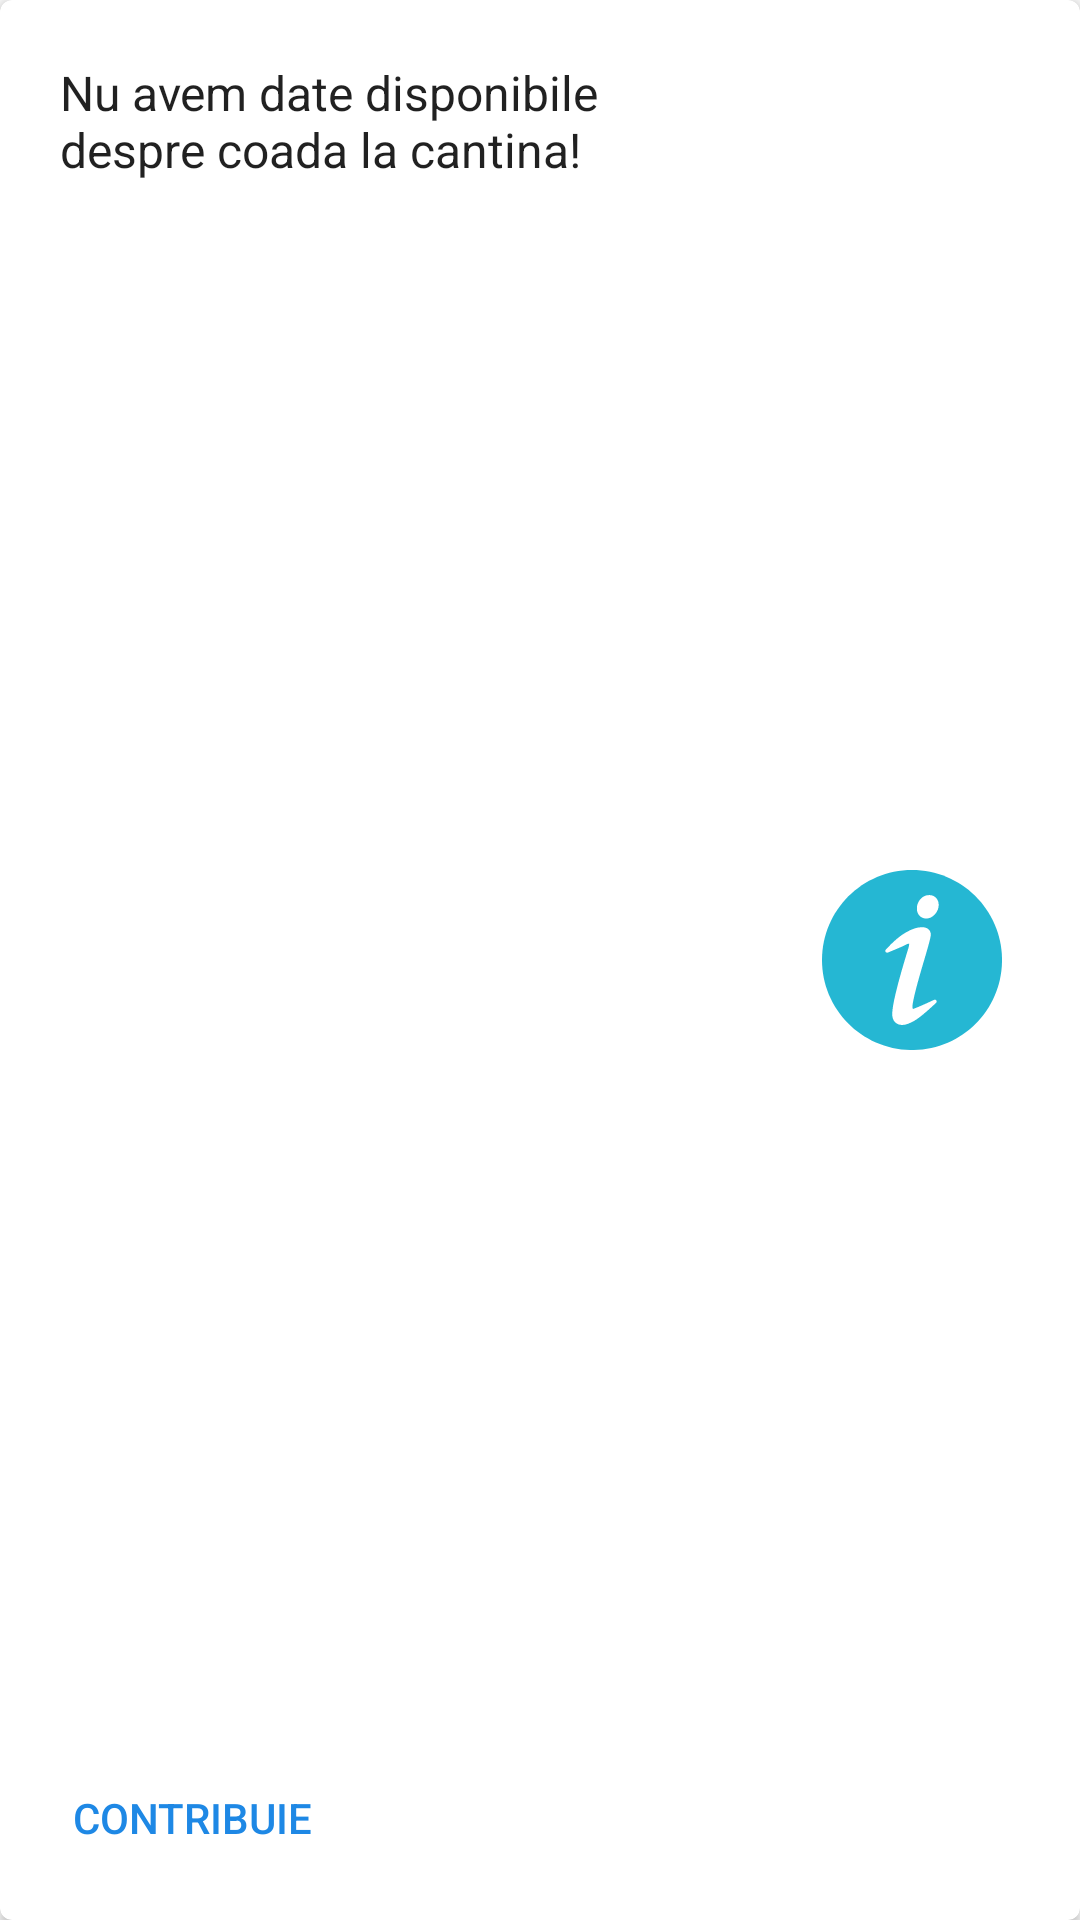

Where to tap for icons on this 1080w x 1920h app screen, as point (x, y):
Info image: point (912, 960)
